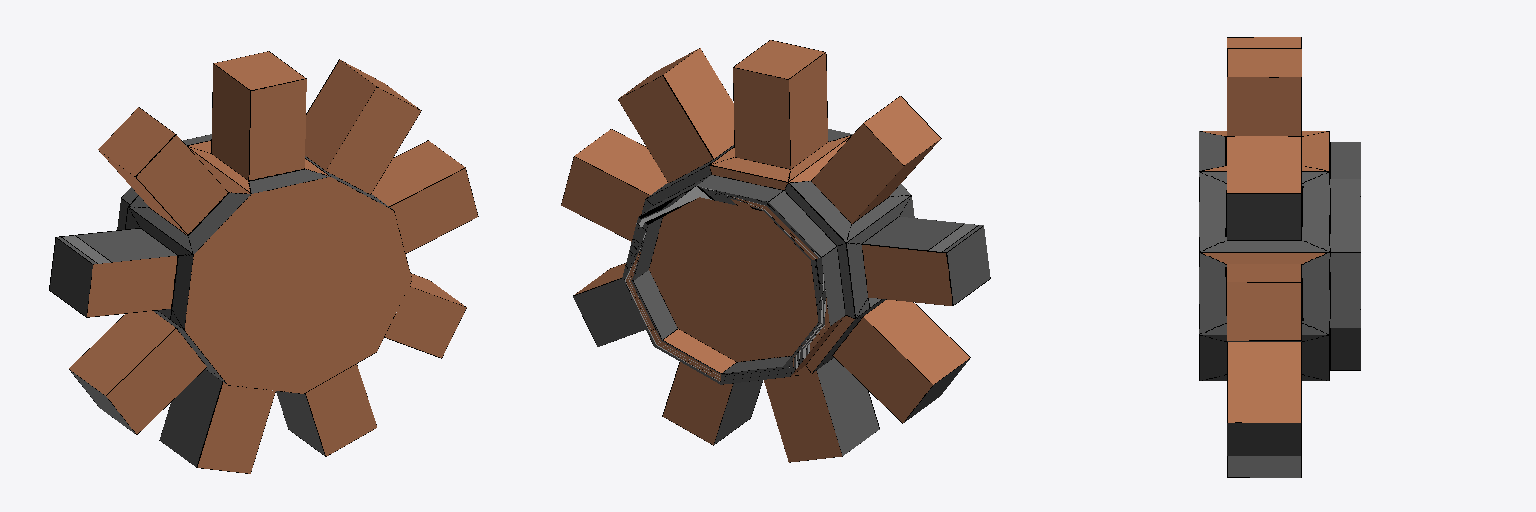
3 renders of one model, left to right at view 1: azimuth 30°, elevation 25°; view 2: azimuth 150°, elevation 25°; view 3: azimuth 270°, elevation 25°, orthographic.
Visible parts, largest first — view 1: Beam_to_gear_box_s_Cylinder.008; view 2: Beam_to_gear_box_s_Cylinder.008; view 3: Beam_to_gear_box_s_Cylinder.008.
Part boxes in pixels (x1,y1,x2,y2): Beam_to_gear_box_s_Cylinder.008: (49,51,478,473); Beam_to_gear_box_s_Cylinder.008: (561,40,990,462); Beam_to_gear_box_s_Cylinder.008: (1199,37,1360,477).
Size of the model in its own units: 1.6 by 1.5 by 0.5759.
Materials: 1 (1 with a texture image).